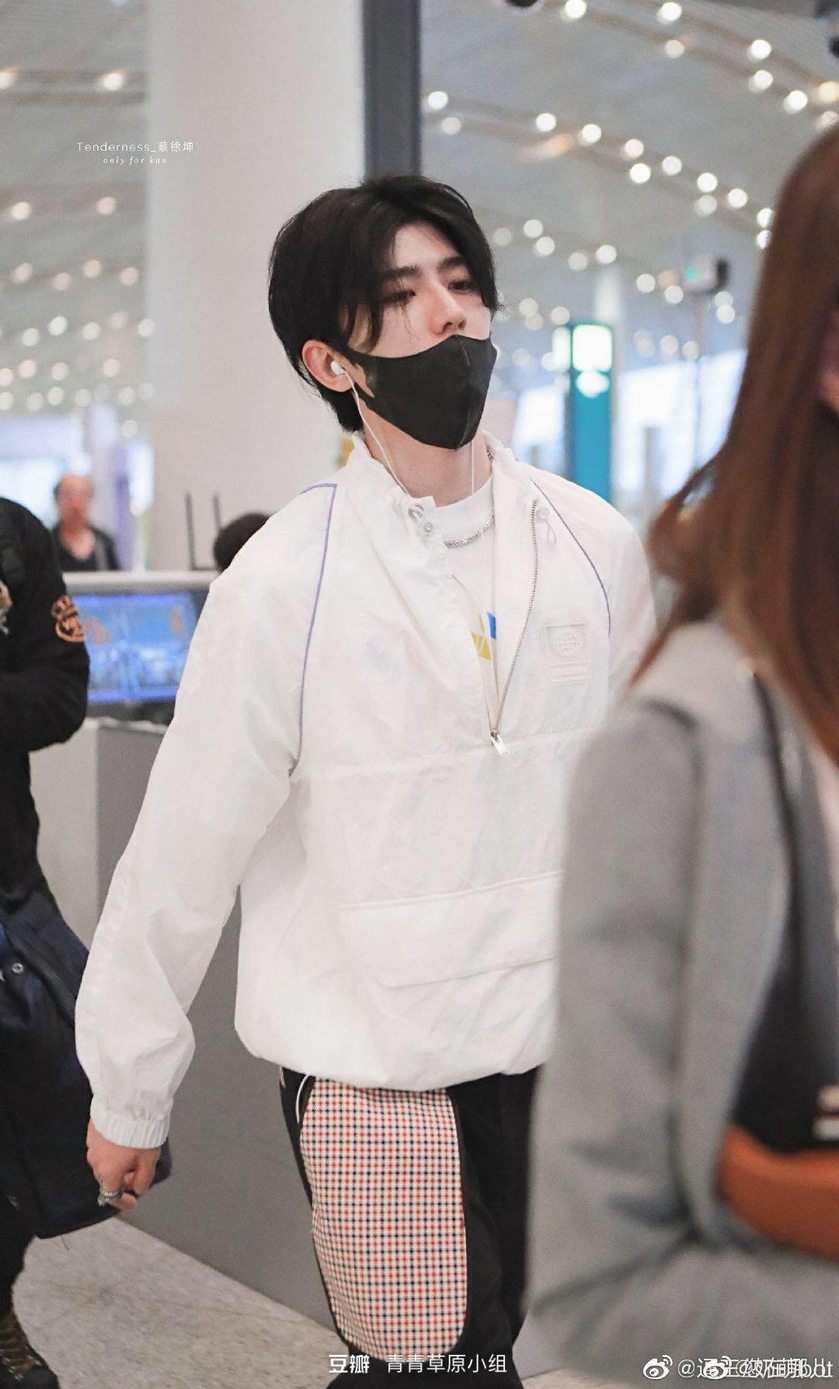WRONG: (357, 244, 496, 449)
